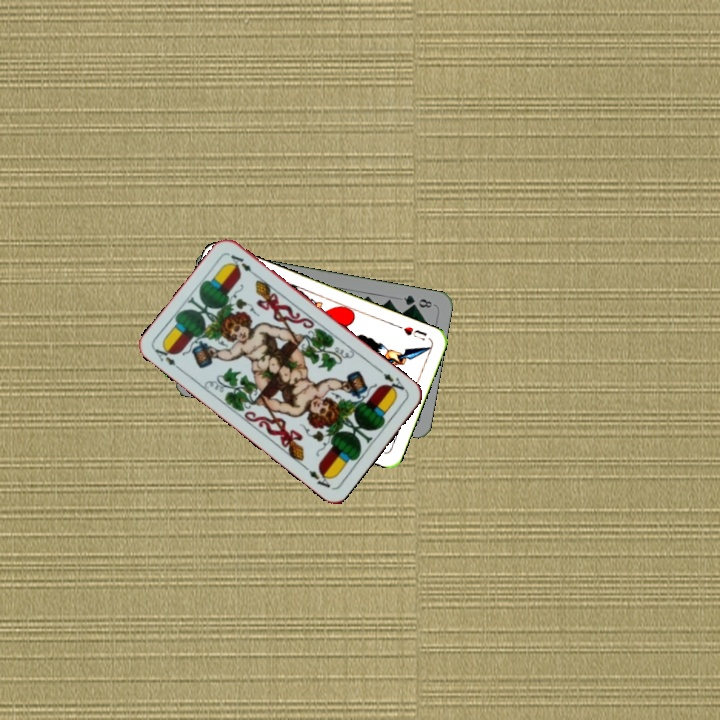EA: (151, 341, 185, 374), (379, 369, 409, 397)
G8: (400, 291, 435, 310)
HU: (393, 321, 429, 343)
